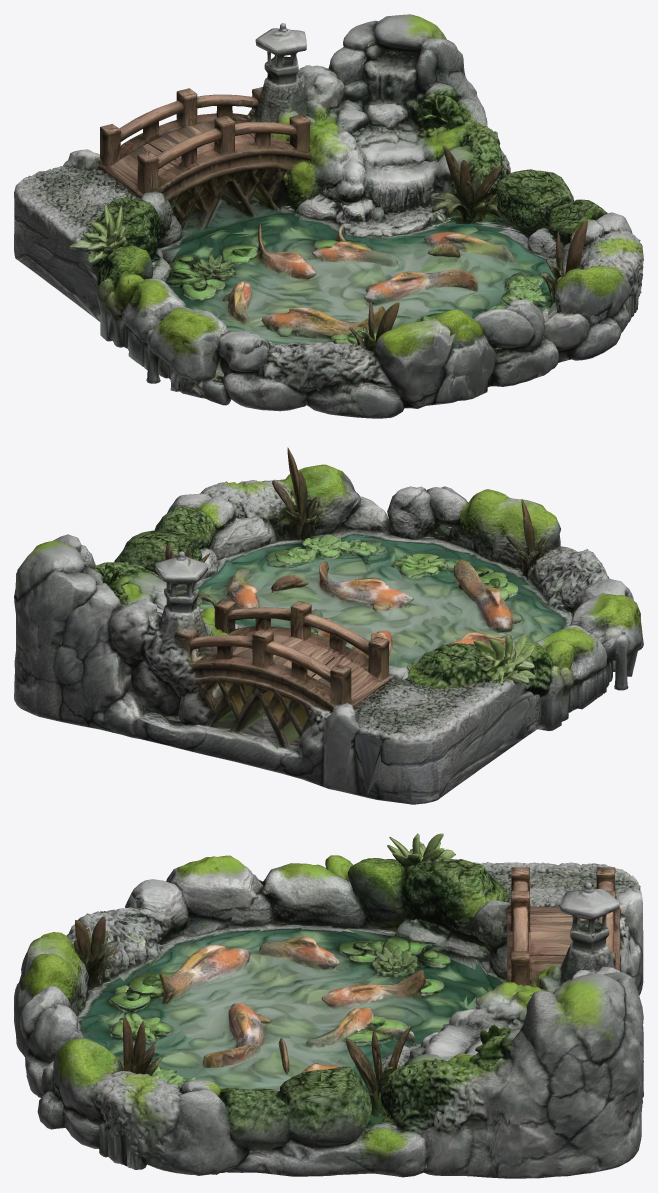
File: Koi_Pond_with_Stone_B.glb
3 renders of one model, top to bottom at view 1: azimuth 30°, elevation 25°; view 2: azimuth 150°, elevation 25°; view 3: azimuth 270°, elevation 25°, orthographic. The views are drawn at different scales.
Visible parts, largest first — view 1: Koi_Pond_with_Stone_B; view 2: Koi_Pond_with_Stone_B; view 3: Koi_Pond_with_Stone_B.
Boxes of the visible parts, x1,y1,x2,y2 form: Koi_Pond_with_Stone_B: [14, 14, 643, 418]; Koi_Pond_with_Stone_B: [14, 447, 643, 804]; Koi_Pond_with_Stone_B: [14, 833, 643, 1178].
Bounding box in the file's own units: 1.85 × 0.6835 × 1.9.
1 material, 1 textured.
